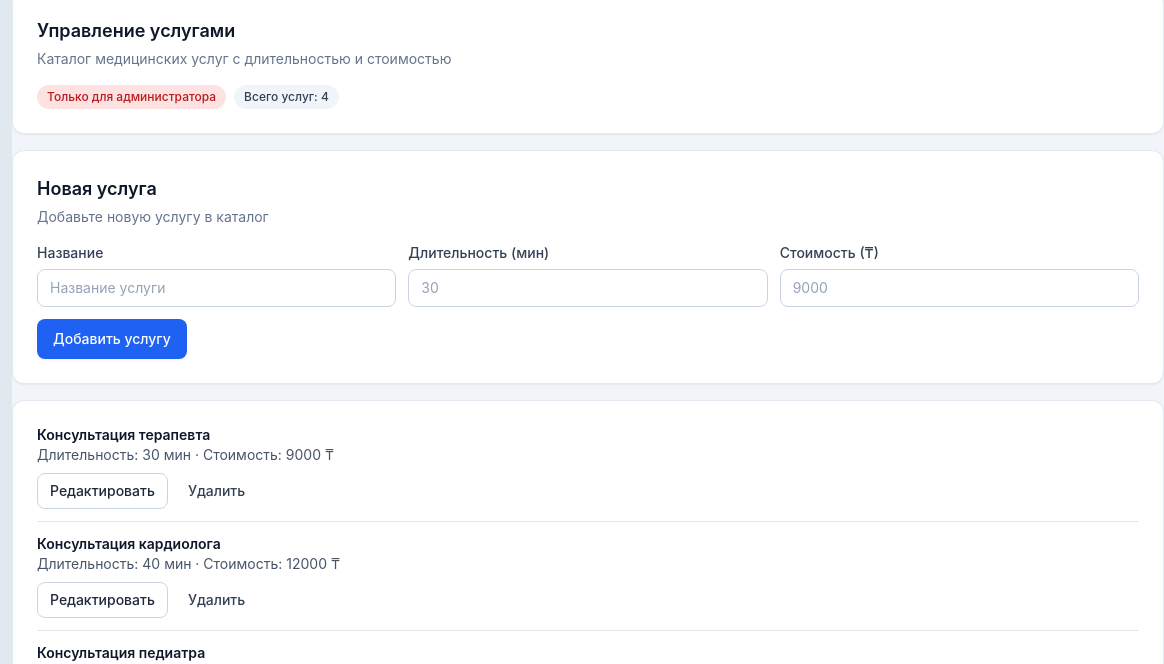
Test: AdminServicesPage integration › показывает ошибку при create 500 и позволяет повторить сохранение
The width and height of the screenshot is (1164, 664).
Expected: the heading "Консультация терапевта" is shown, [37,426,210,443]
Type "МРТ" into the field labelled "Название" at (217, 288), box [37,269,396,307]
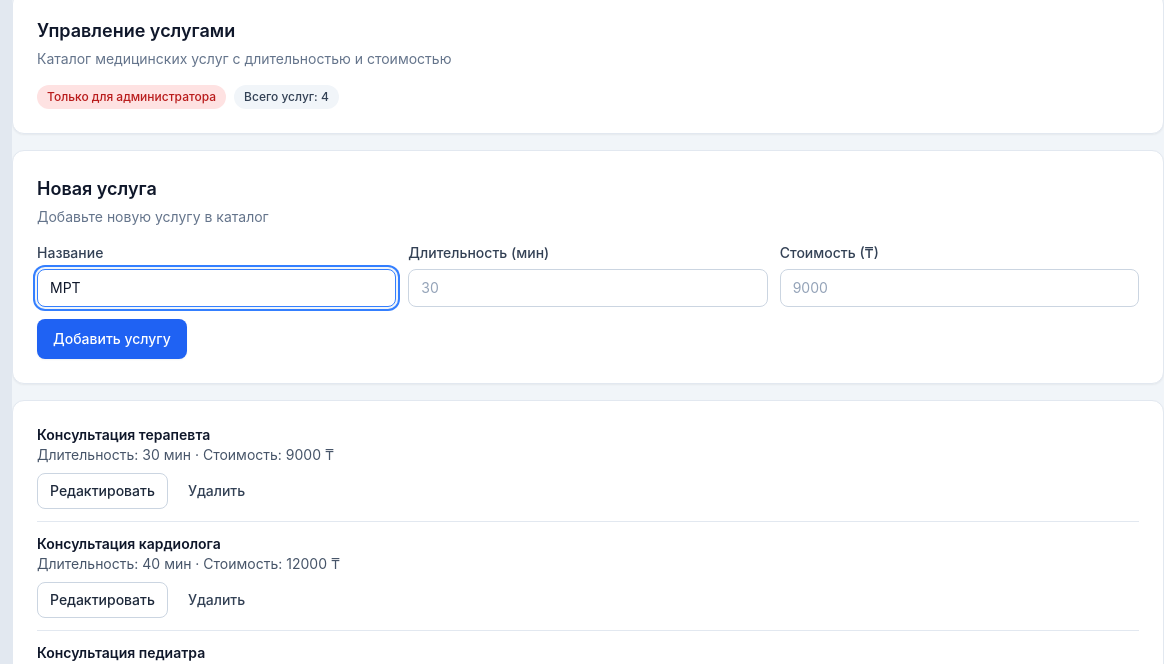
Type "60" into the number field labelled "Длительность (мин)" at (588, 288), box [408,269,768,307]
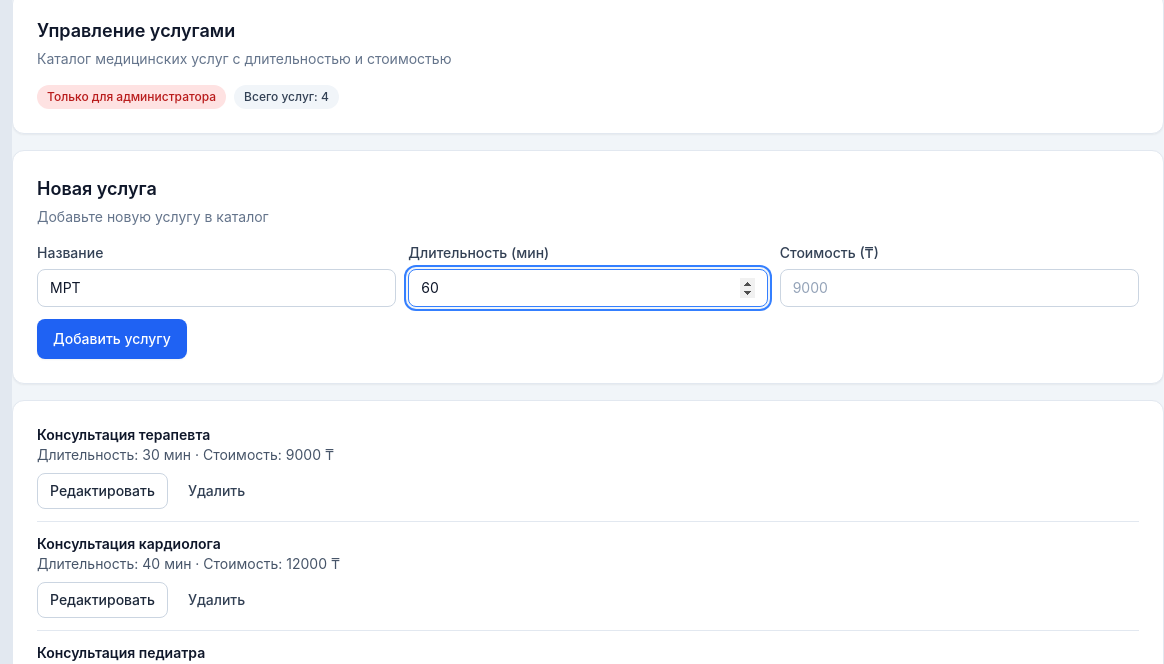
Type "25000" into the number field labelled "Стоимость (₸)" at (959, 288), box [780,269,1139,307]
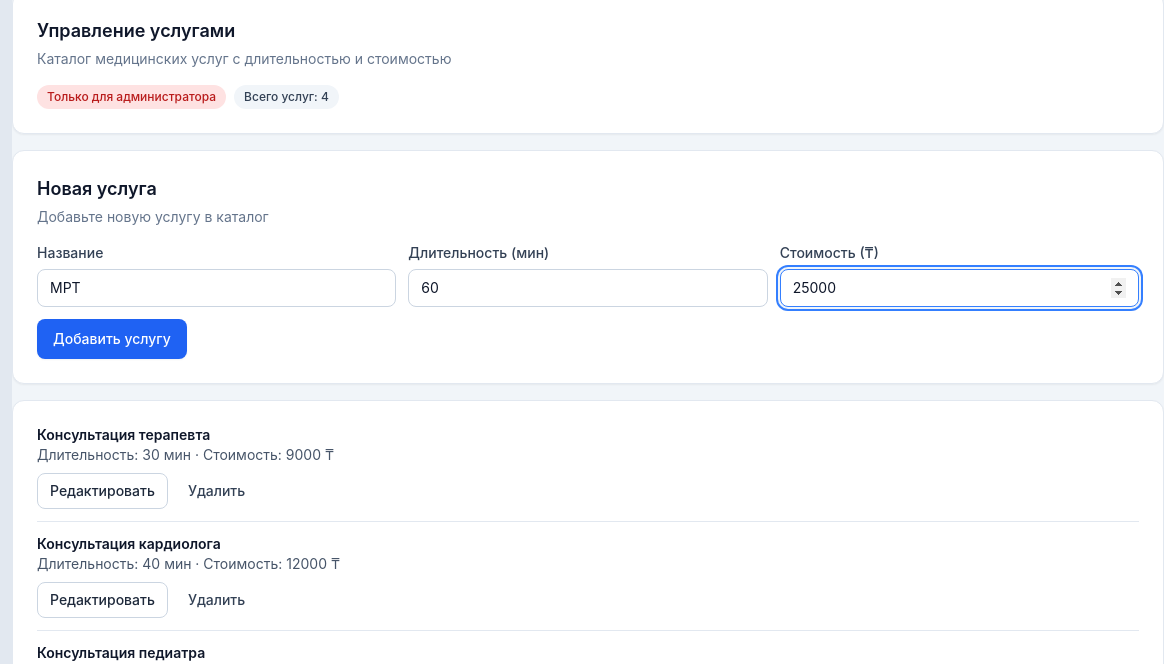
Click the button "Добавить услугу" at (112, 339), box [37,319,187,359]
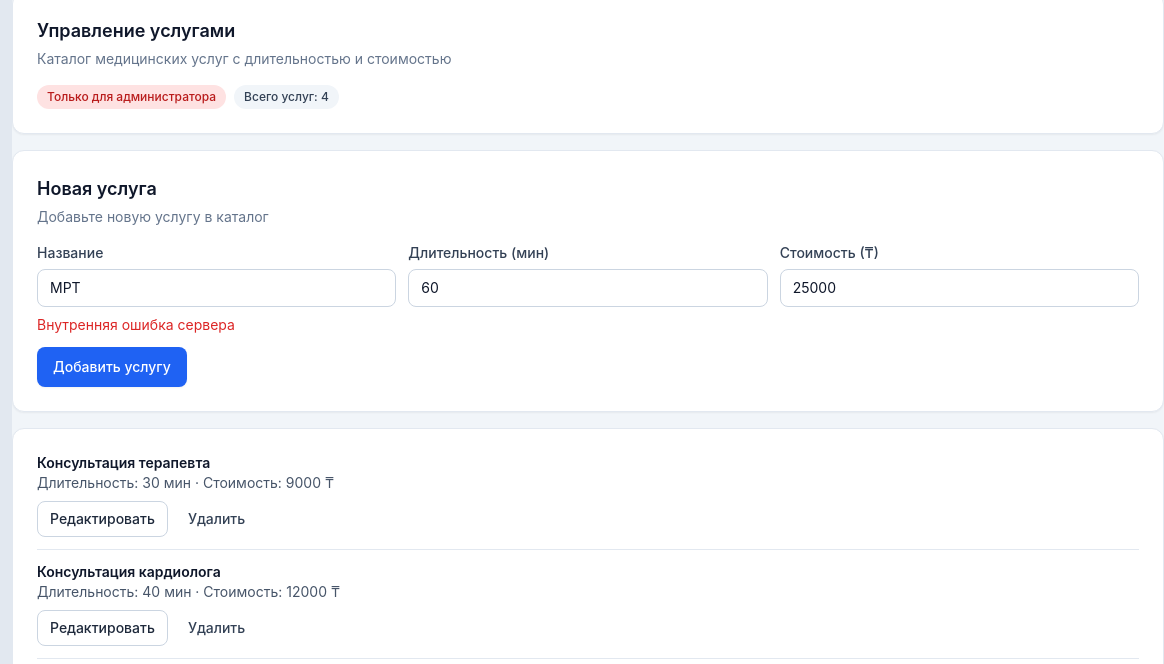
Expected: the text "Внутренняя ошибка сервера" is shown, [37,316,235,333]
Click the button "Добавить услугу" at (112, 367), box [37,347,187,387]
(page scrolled)
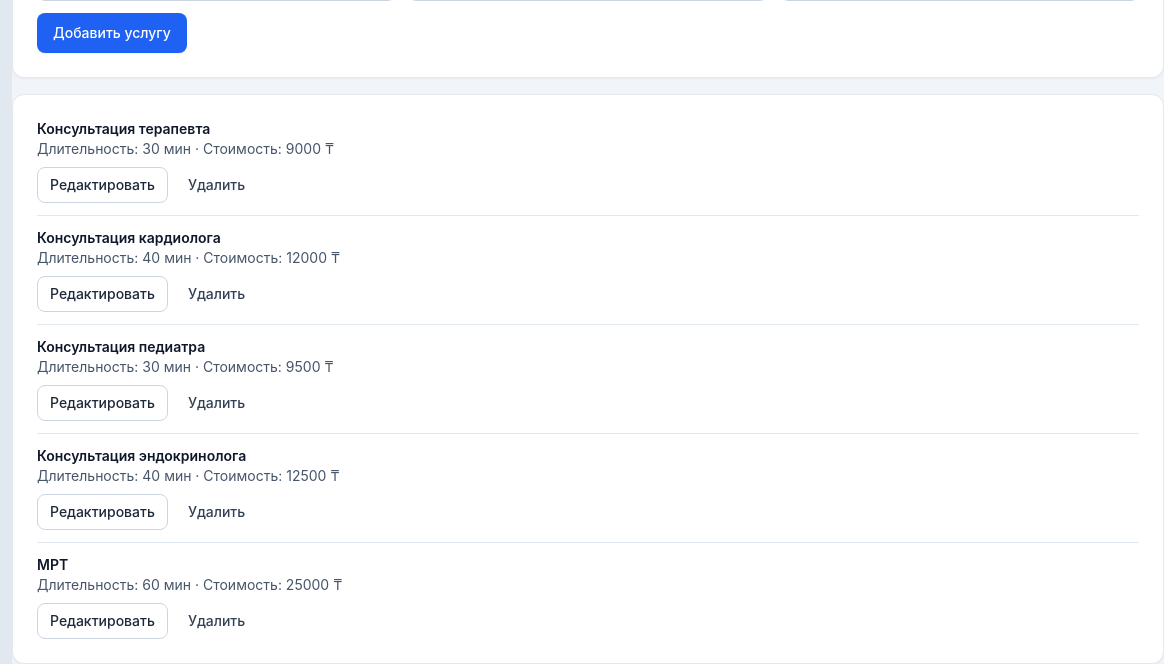
Expected: the heading "МРТ" is shown, [37,556,68,573]
